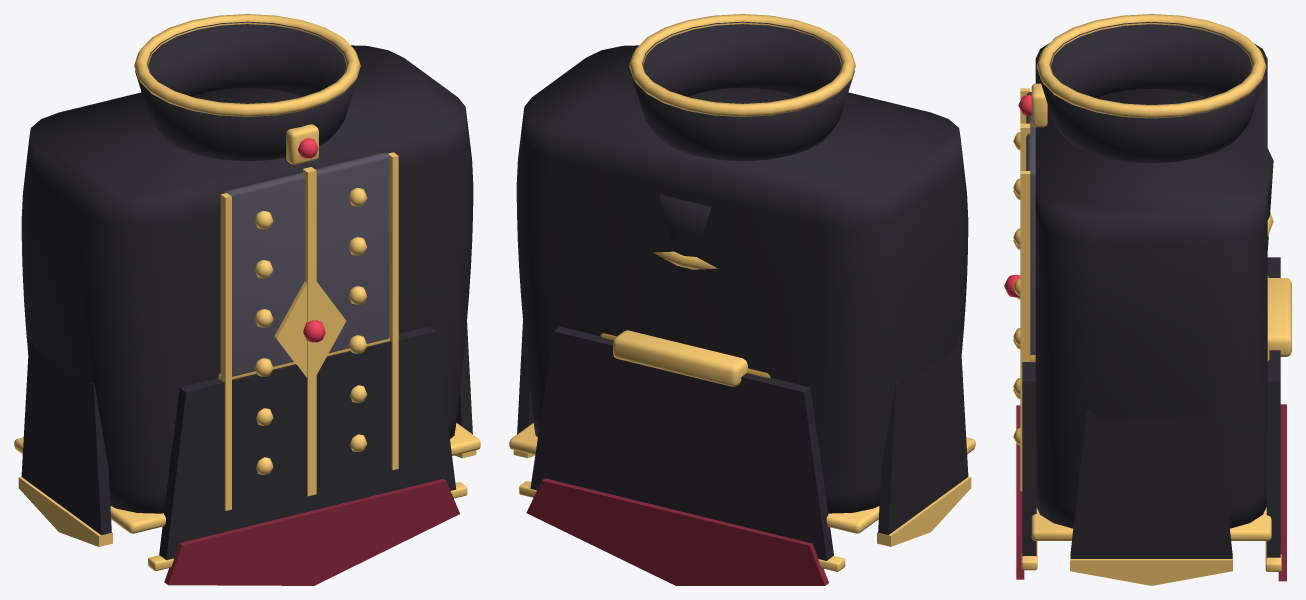
File: BossCloth.glb
3 renders of one model, left to right at view 1: azimuth 30°, elevation 25°; view 2: azimuth 150°, elevation 25°; view 3: azimuth 270°, elevation 25°, orthographic.
Visible parts, largest first — view 1: BossTunic__Cloth_1, BossSkirt__Cloth_1, BossTunic__Gold_1, BossTunic__ClothSheen_1, BossSkirt__Velvet_1, BossSkirt__Gold_1, BossTunic__Gem_1; view 2: BossTunic__Cloth_1, BossSkirt__Cloth_1, BossSkirt__Velvet_1, BossTunic__Gold_1, BossBoot__Gold_1, BossSkirt__Gold_1, BossTrouserUp__Cloth_1; view 3: BossTunic__Cloth_1, BossSkirt__Cloth_1, BossTunic__Gold_1, BossSkirt__Gold_1, BossSkirt__Velvet_1, BossBoot__Gold_1, BossTunic__ClothSheen_1, BossTunic__Gem_1.
Boxes of the visible parts, <box> form: BossTunic__Cloth_1: <box>21,21,473,513</box>; BossSkirt__Cloth_1: <box>21,323,472,568</box>; BossTunic__Gold_1: <box>14,14,480,533</box>; BossTunic__ClothSheen_1: <box>223,152,389,376</box>; BossSkirt__Velvet_1: <box>164,479,459,585</box>; BossSkirt__Gold_1: <box>18,450,476,570</box>; BossTunic__Gem_1: <box>298,138,325,342</box>; BossTunic__Cloth_1: <box>516,21,968,513</box>; BossSkirt__Cloth_1: <box>517,322,968,568</box>; BossSkirt__Velvet_1: <box>526,478,828,585</box>; BossTunic__Gold_1: <box>509,14,975,533</box>; BossBoot__Gold_1: <box>613,251,747,386</box>; BossSkirt__Gold_1: <box>513,450,971,571</box>; BossTrouserUp__Cloth_1: <box>659,194,711,292</box>; BossTunic__Cloth_1: <box>1035,22,1267,528</box>; BossSkirt__Cloth_1: <box>1022,257,1280,558</box>; BossTunic__Gold_1: <box>1013,14,1271,540</box>; BossSkirt__Gold_1: <box>1021,541,1281,585</box>; BossSkirt__Velvet_1: <box>1016,404,1286,581</box>; BossBoot__Gold_1: <box>1267,213,1291,356</box>; BossTunic__ClothSheen_1: <box>1026,92,1035,355</box>; BossTunic__Gem_1: <box>1004,95,1031,297</box>.
Bounding box in the file's own units: 2.2 × 2.62 × 1.42.
